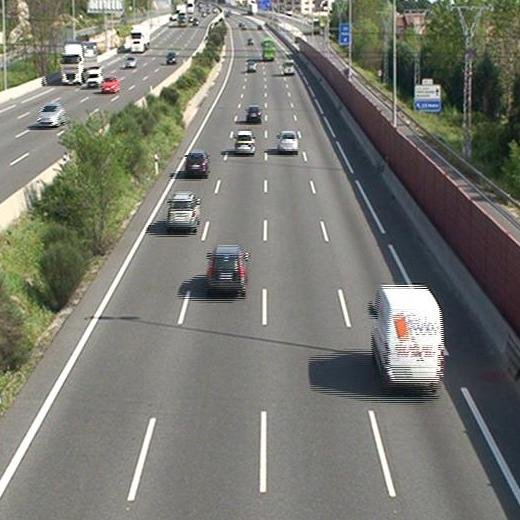bus: (263, 39, 275, 61)
car: (207, 246, 245, 291), (168, 192, 200, 227), (185, 151, 208, 176), (235, 131, 255, 153), (277, 132, 297, 151), (247, 106, 261, 122), (246, 61, 257, 72)
van: (371, 285, 444, 390), (284, 59, 295, 74)
